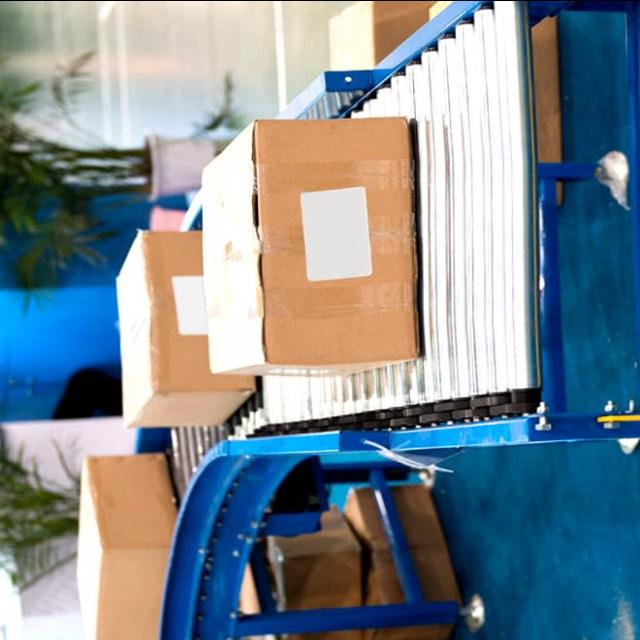food: (198, 114, 422, 378), (113, 227, 259, 430), (74, 450, 180, 640)
